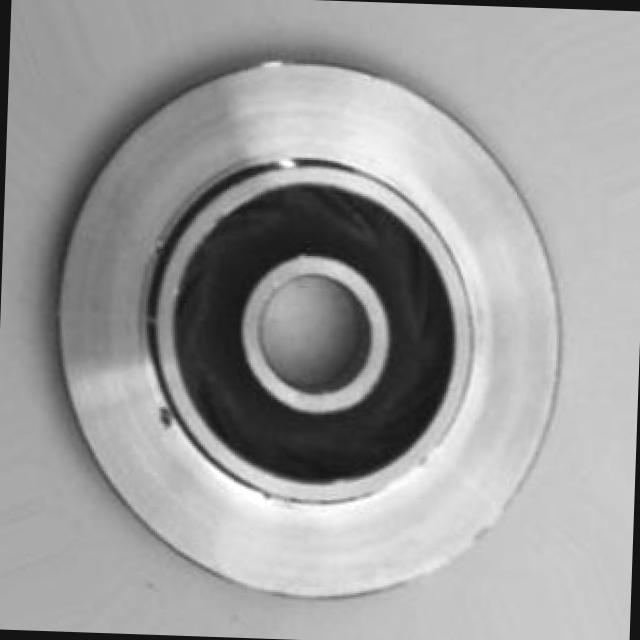Defect: (151, 396, 183, 434)
